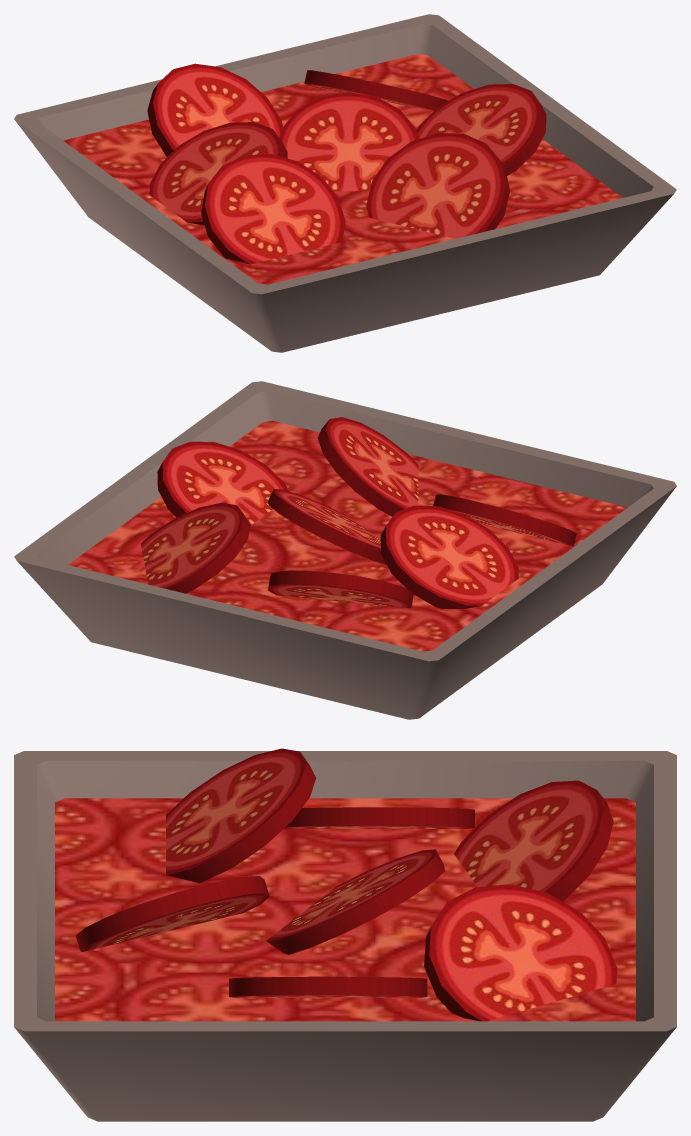
Rendered from TomatoTray.glb.
The picture shows the model from 3 angles, top to bottom: view 1: azimuth 30°, elevation 25°; view 2: azimuth 150°, elevation 25°; view 3: azimuth 270°, elevation 25°; orthographic projection. The views are drawn at different scales.
Parts seen in each view (by area): view 1: TomatoTray; view 2: TomatoTray; view 3: TomatoTray.
Part boxes in pixels (left/top/right/bottom): TomatoTray: left=14, top=14, right=676, bottom=352; TomatoTray: left=14, top=381, right=676, bottom=719; TomatoTray: left=14, top=748, right=676, bottom=1121.
Size of what is drawn, in the model's own units: 0.7422 by 0.2165 by 0.7422.
2 materials, 2 textured.
